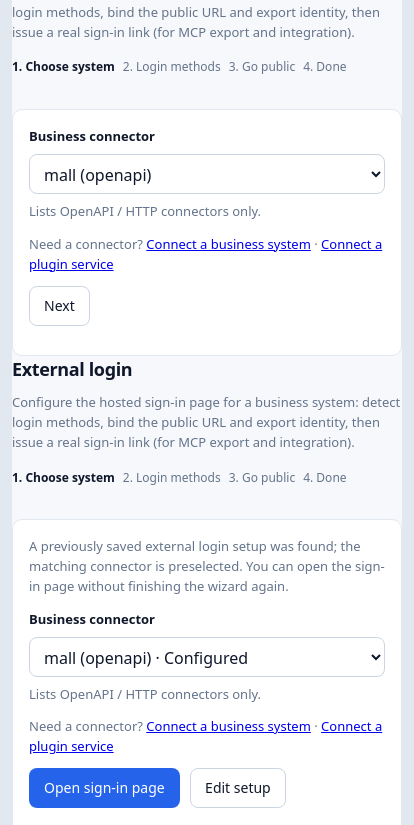
ExternalLoginSettings › reopens with previously saved hosted login selected and methods restored
The width and height of the screenshot is (414, 825).
(page scrolled)
Expected: the 2nd dropdown with test id "external-login-connector" shows "mall (openapi) · Configured", [29, 637, 385, 677]
Expected: the button with test id "external-login-open-shortcut" is shown, [29, 768, 180, 808]
What coordinates should you click on to do the following:
click the button with test id "external-login-edit-config"
I would click on:
 (238, 788)
Its box is [190, 768, 286, 808].
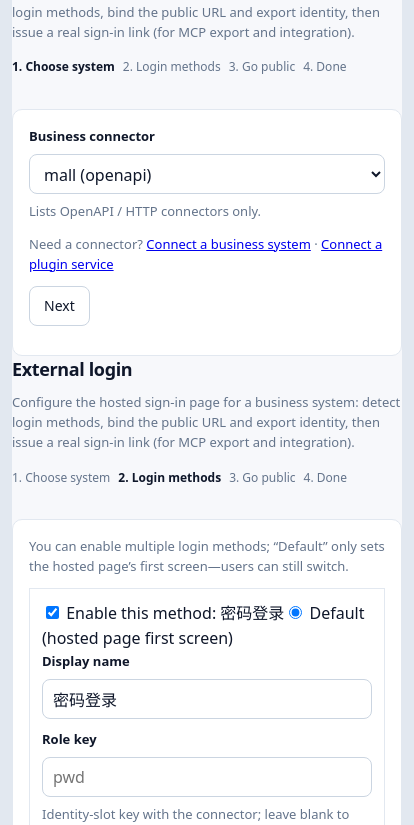
Now the text "密码登录" is shown, box [220, 602, 284, 624]
